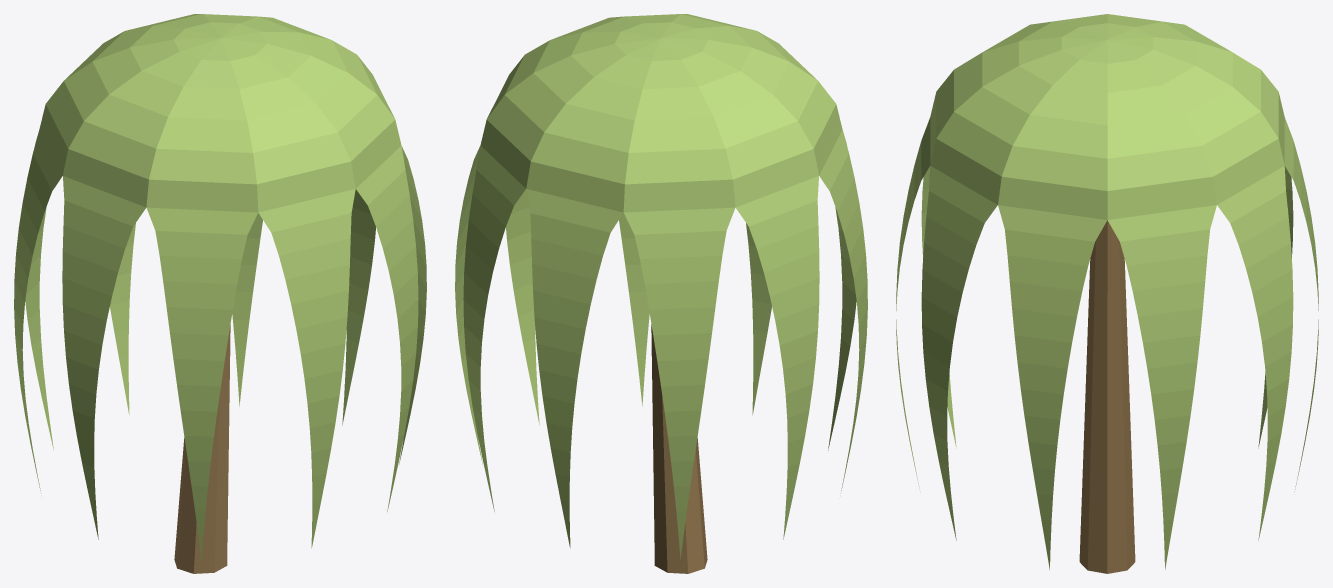
The model's file is WillowTree.fbx.
3 renders of one model, left to right at view 1: azimuth 30°, elevation 25°; view 2: azimuth 150°, elevation 25°; view 3: azimuth 270°, elevation 25°, orthographic. The views are drawn at different scales.
Visible parts, largest first — view 1: WillowTree_WillowFrondMat, WillowTree_WillowTrunkMat; view 2: WillowTree_WillowFrondMat, WillowTree_WillowTrunkMat; view 3: WillowTree_WillowFrondMat, WillowTree_WillowTrunkMat.
Part boxes in pixels (x1=…): WillowTree_WillowFrondMat: x1=14, y1=14, x2=426, y2=559; WillowTree_WillowTrunkMat: x1=174, y1=324, x2=230, y2=573; WillowTree_WillowFrondMat: x1=455, y1=14, x2=867, y2=559; WillowTree_WillowTrunkMat: x1=651, y1=324, x2=707, y2=573; WillowTree_WillowFrondMat: x1=896, y1=14, x2=1318, y2=569; WillowTree_WillowTrunkMat: x1=1079, y1=220, x2=1135, y2=573.
Size of the model in its own units: 744 by 1050 by 756.
